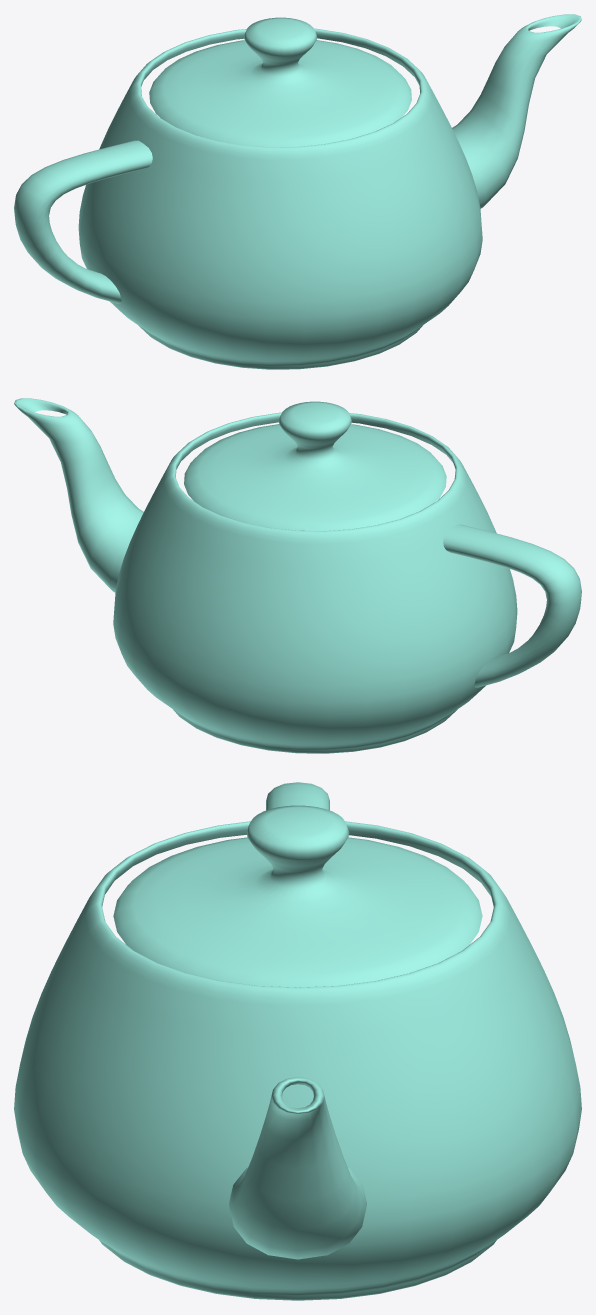
Rendered from Teapot001.glb.
The picture shows the model from 3 angles, top to bottom: view 1: azimuth 30°, elevation 25°; view 2: azimuth 150°, elevation 25°; view 3: azimuth 270°, elevation 25°; orthographic projection. The views are drawn at different scales.
Visible parts, largest first — view 1: Teapot001; view 2: Teapot001; view 3: Teapot001.
Boxes of the visible parts, <box> form: Teapot001: <box>14,14,581,369</box>; Teapot001: <box>14,398,581,753</box>; Teapot001: <box>14,782,581,1300</box>.
Size of the model in its own units: 0.6433 by 0.315 by 0.4.
